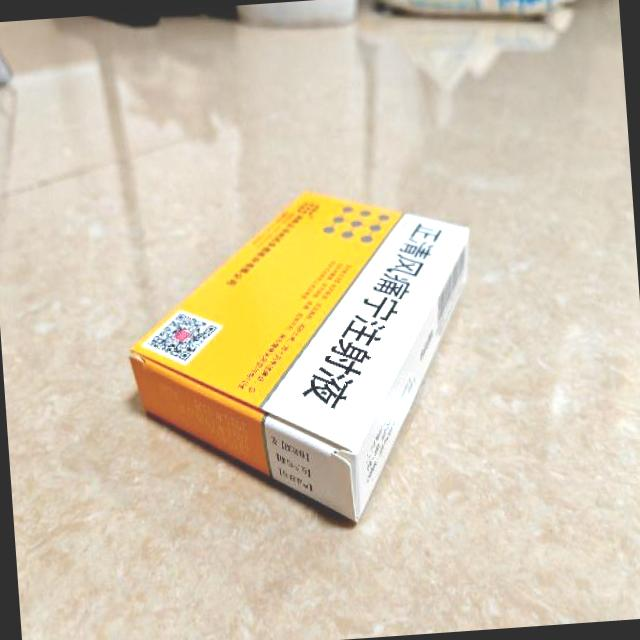box: (120, 180, 490, 542)
